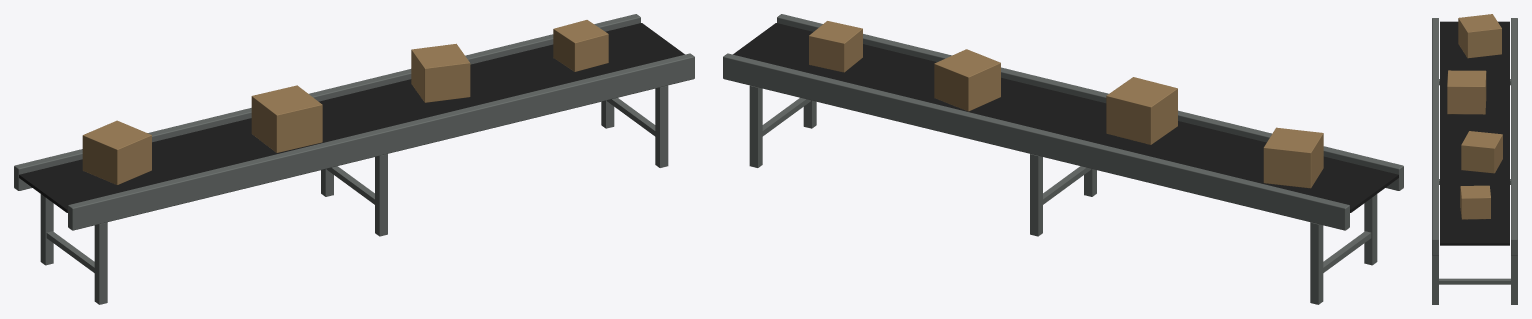
The model's file is conveyor.glb.
3 views of the same model, side by side, from view 1: azimuth 30°, elevation 25°; view 2: azimuth 150°, elevation 25°; view 3: azimuth 270°, elevation 25° (orthographic). The views are drawn at different scales.
Visible parts, largest first — view 1: band, holm-1, holm1, kiste1, kiste0, kiste2, kiste3, bein-2.7-1, bein2.7-1, bein0.0-1, bein-2.71, quer-2.7 (+2 smaller); view 2: band, holm1, holm-1, kiste1, kiste2, kiste0, kiste3, bein-2.71, bein2.71, bein0.01, bein-2.7-1, quer-2.7 (+2 smaller); view 3: band, kiste1, kiste0, holm-1, holm1, kiste2, kiste3, quer2.7, bein2.7-1, bein2.71.
Boxes of the visible parts, x1=… form: band: x1=19, y1=23, x2=684, y2=212; holm-1: x1=68, y1=53, x2=694, y2=230; holm1: x1=14, y1=14, x2=640, y2=190; kiste1: x1=251, y1=85, x2=322, y2=152; kiste0: x1=82, y1=120, x2=151, y2=184; kiste2: x1=411, y1=43, x2=470, y2=102; kiste3: x1=553, y1=20, x2=608, y2=71; bein-2.7-1: x1=94, y1=222, x2=107, y2=304; bein2.7-1: x1=655, y1=85, x2=668, y2=167; bein0.0-1: x1=375, y1=154, x2=387, y2=236; bein-2.71: x1=40, y1=194, x2=53, y2=265; quer-2.7: x1=46, y1=231, x2=94, y2=272; band: x1=733, y1=23, x2=1398, y2=212; holm1: x1=723, y1=53, x2=1349, y2=230; holm-1: x1=777, y1=14, x2=1403, y2=190; kiste1: x1=1106, y1=77, x2=1177, y2=144; kiste2: x1=934, y1=49, x2=1000, y2=111; kiste0: x1=1263, y1=127, x2=1323, y2=188; kiste3: x1=809, y1=21, x2=862, y2=72; bein-2.71: x1=1310, y1=222, x2=1323, y2=304; bein2.71: x1=749, y1=85, x2=762, y2=167; bein0.01: x1=1030, y1=154, x2=1042, y2=236; bein-2.7-1: x1=1364, y1=194, x2=1377, y2=265; quer-2.7: x1=1323, y1=231, x2=1371, y2=272; band: x1=1440, y1=21, x2=1509, y2=245; kiste1: x1=1447, y1=70, x2=1486, y2=114; kiste0: x1=1458, y1=14, x2=1501, y2=58; holm-1: x1=1432, y1=18, x2=1438, y2=255; holm1: x1=1511, y1=18, x2=1517, y2=255; kiste2: x1=1461, y1=131, x2=1502, y2=173; kiste3: x1=1460, y1=185, x2=1490, y2=219; quer2.7: x1=1439, y1=278, x2=1510, y2=284; bein2.7-1: x1=1432, y1=255, x2=1438, y2=304; bein2.71: x1=1511, y1=255, x2=1517, y2=304.
Bounding box in the file's own units: 6 × 1.25 × 0.98.
